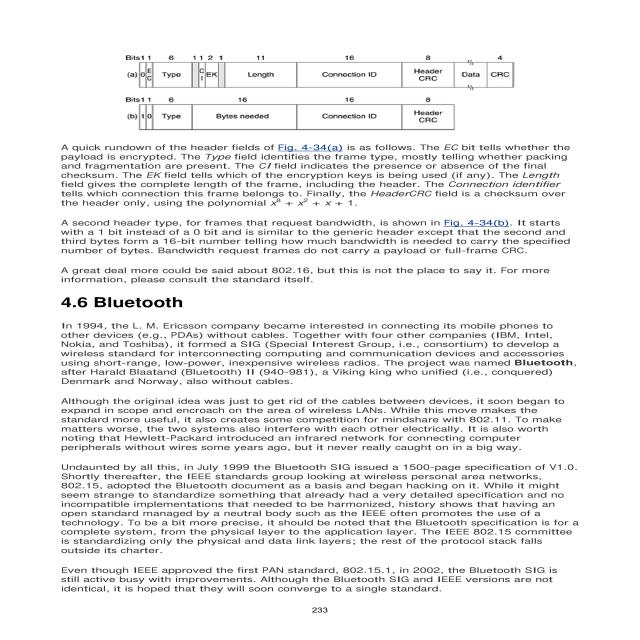diagram: (104, 48, 538, 142)
